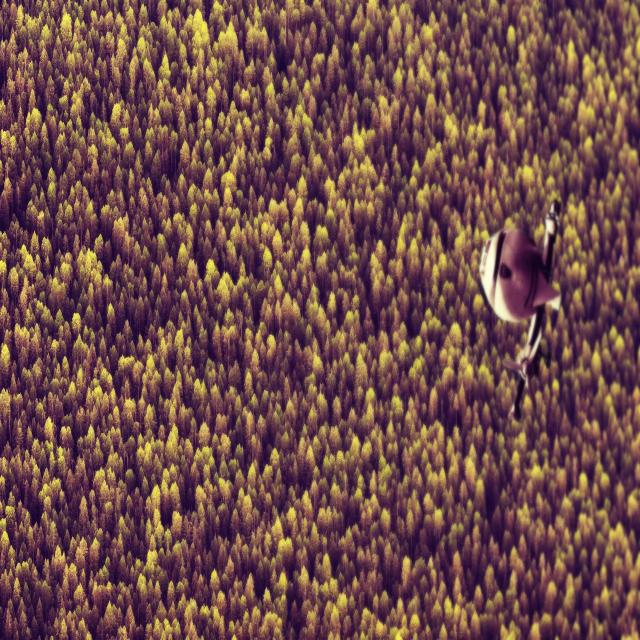airplane: (477, 196, 562, 423)
